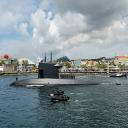submarine: (11, 53, 104, 86)
